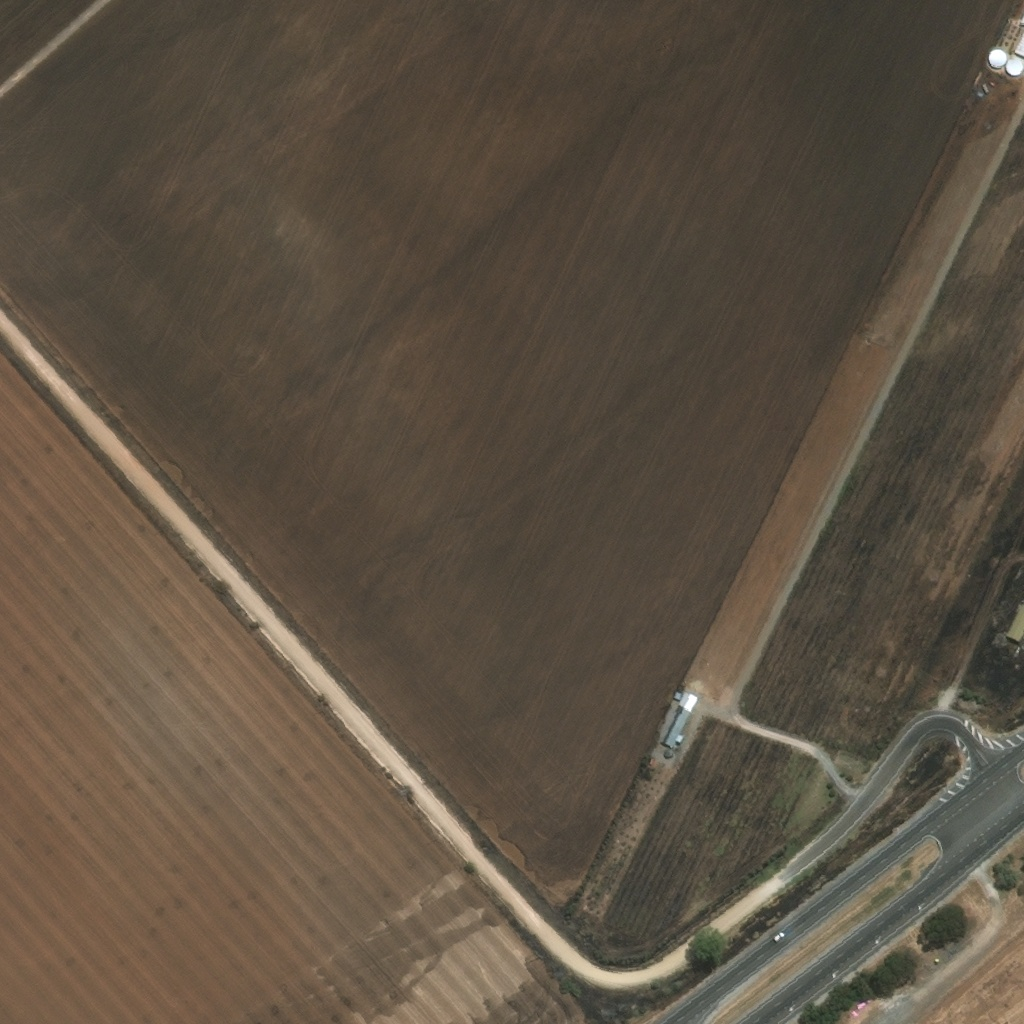0 no-damage: (660, 690, 700, 748), (987, 49, 1008, 68), (1005, 58, 1023, 76), (663, 748, 674, 758), (673, 690, 682, 700)
4 un-classified: (1006, 606, 1023, 642)
